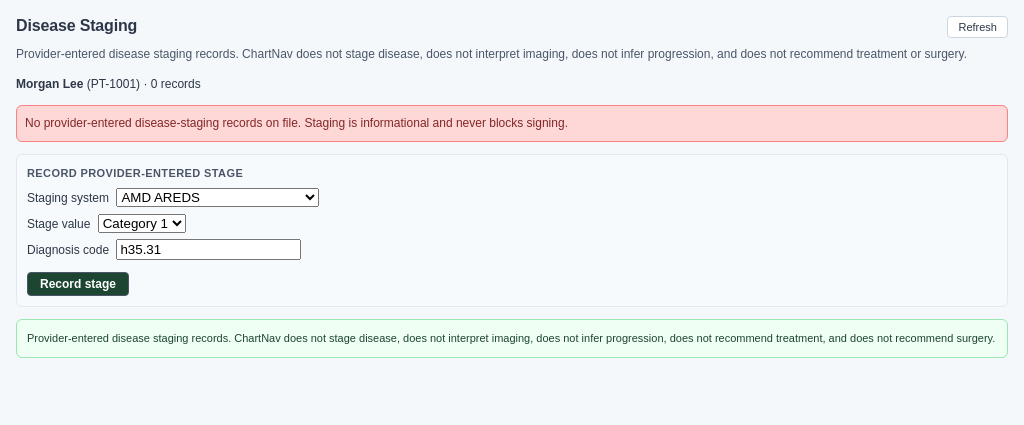
Test: DiseaseStagingPanel — form interaction › surfaces submit errors in an inline banner
Click the button with test id "disease-staging-submit-btn" at {"x": 78, "y": 284}, box [27,272,129,296]
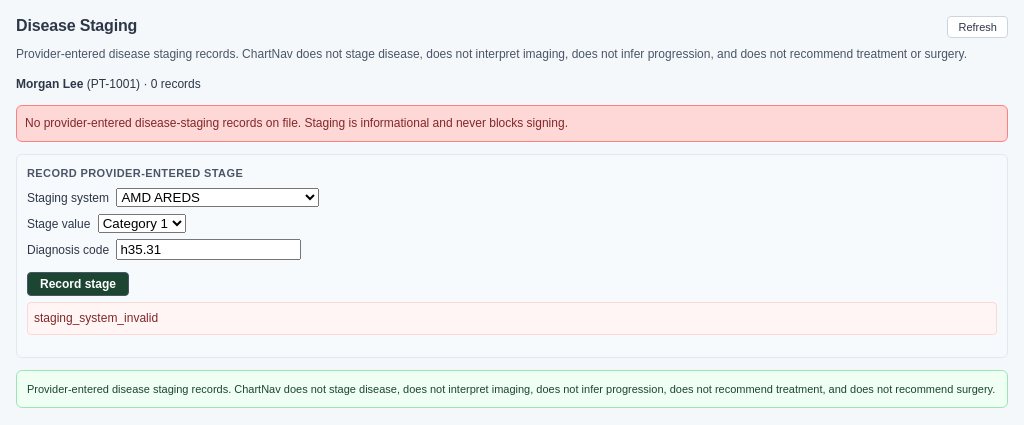
Result: the text "staging_system_invalid" is shown at [27,302,997,335]
Result: the text with test id "disease-staging-submit-error" reads "staging_system_invalid" at [34,311,158,325]
